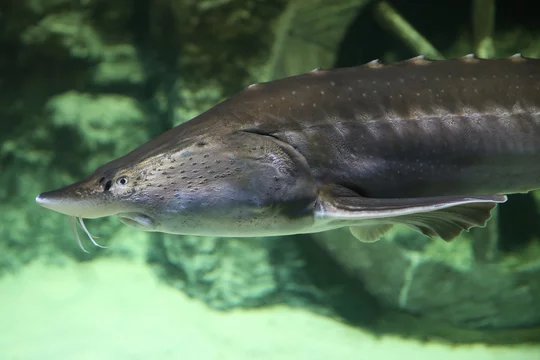Sturgeon: (18, 84, 540, 279)
